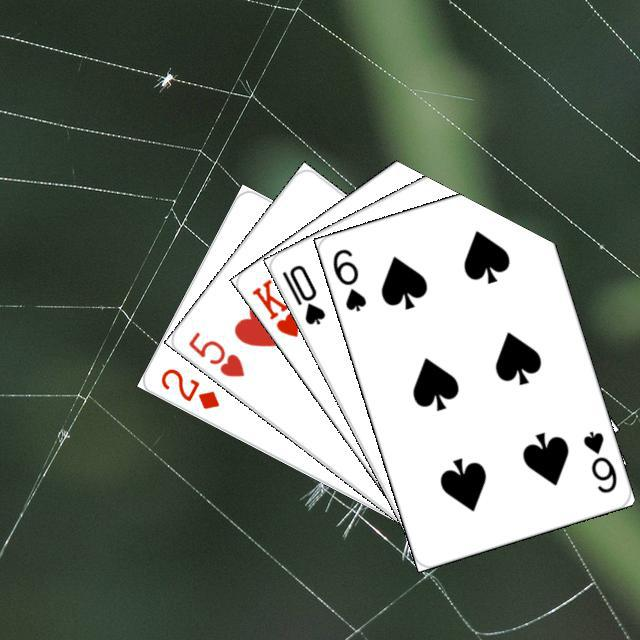10s: (276, 259, 327, 327)
2d: (156, 363, 222, 412)
5h: (183, 326, 247, 379)
6s: (327, 244, 368, 313), (578, 426, 619, 495)
Kh: (247, 274, 316, 339)
